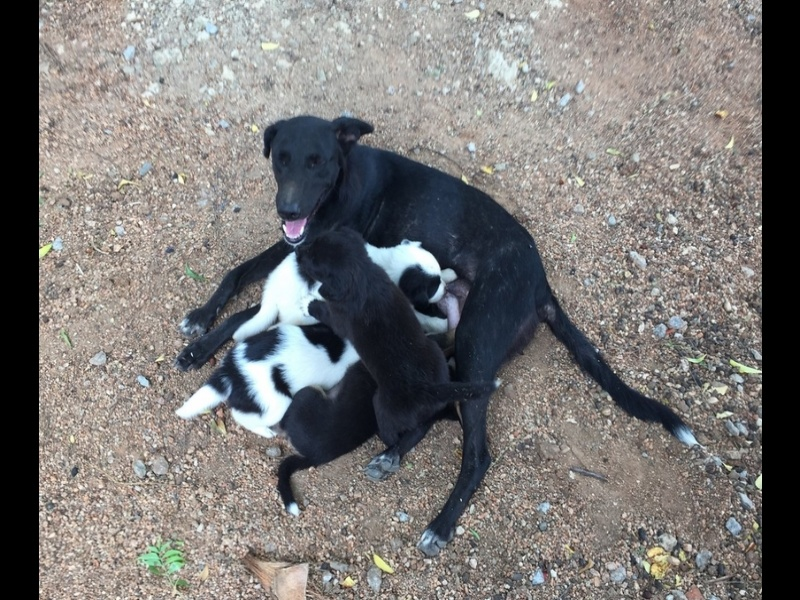dog: (270, 119, 672, 542), (301, 230, 462, 459), (187, 308, 380, 439), (287, 341, 454, 476), (235, 235, 447, 341)
